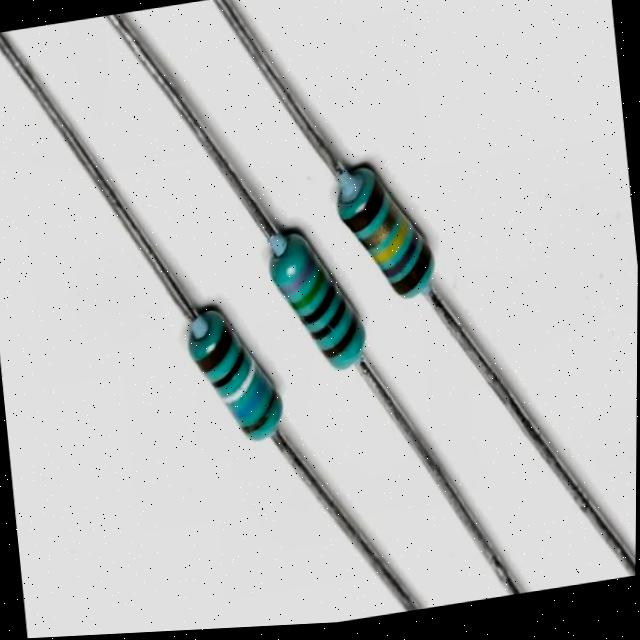Resistor: (271, 102, 525, 395), (103, 215, 344, 516), (187, 166, 432, 454)
